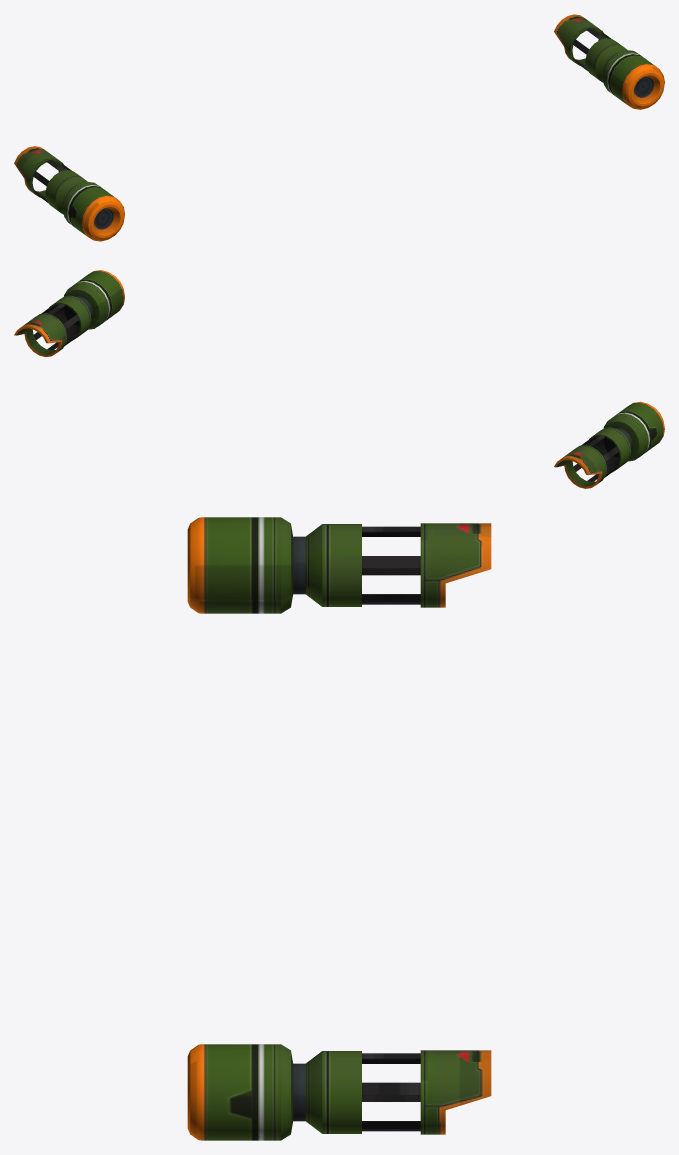
File: Mod-K_blue.FBX
3 renders of one model, top to bottom at view 1: azimuth 30°, elevation 25°; view 2: azimuth 150°, elevation 25°; view 3: azimuth 270°, elevation 25°, orthographic. The views are drawn at different scales.
Visible parts, largest first — view 1: Mod-K_Right, Mod-K_Left; view 2: Mod-K_Left, Mod-K_Right; view 3: Mod-K_Right, Mod-K_Left.
Boxes of the visible parts, x1,y1,x2,y2 form: Mod-K_Right: [14, 146, 124, 241]; Mod-K_Left: [554, 14, 664, 109]; Mod-K_Left: [14, 270, 124, 356]; Mod-K_Right: [554, 401, 664, 488]; Mod-K_Right: [187, 517, 491, 613]; Mod-K_Left: [187, 1044, 491, 1140].
Size of the model in its own units: 19721 by 4457 by 1401.
